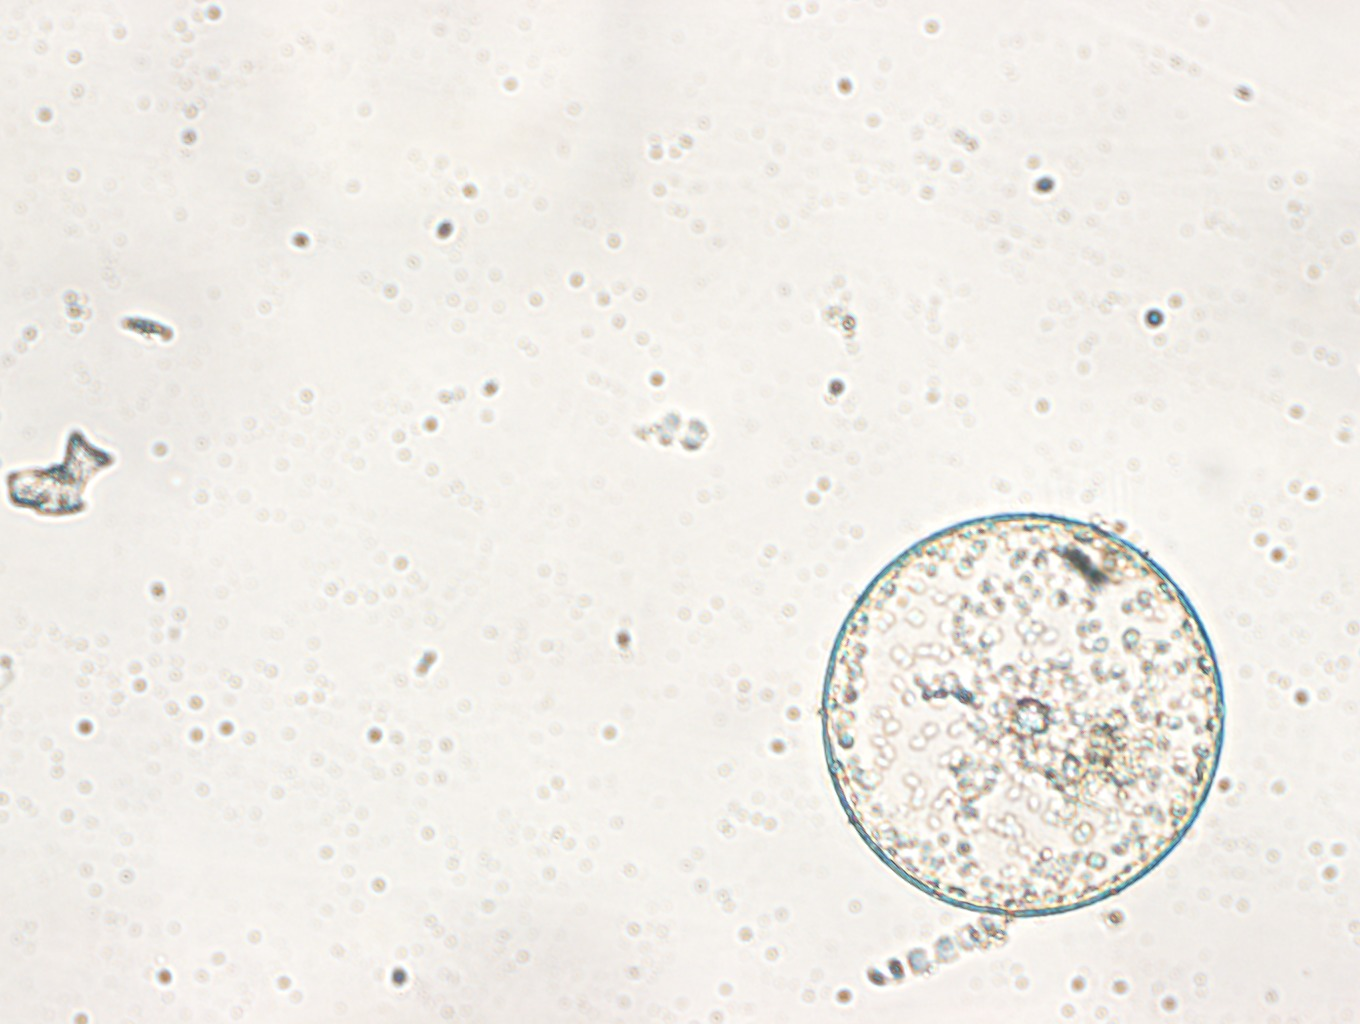coscinodiscus: (808, 502, 1233, 922)
